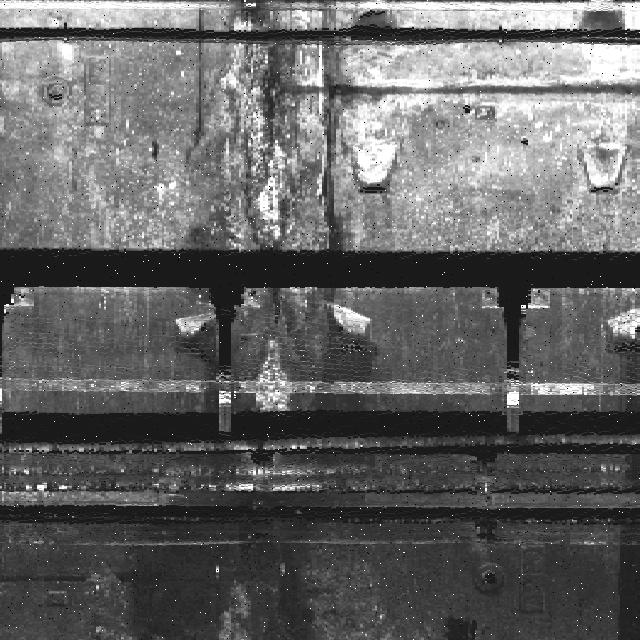leakage: (191, 3, 365, 250), (115, 452, 315, 639), (192, 281, 381, 417), (616, 326, 639, 639)
